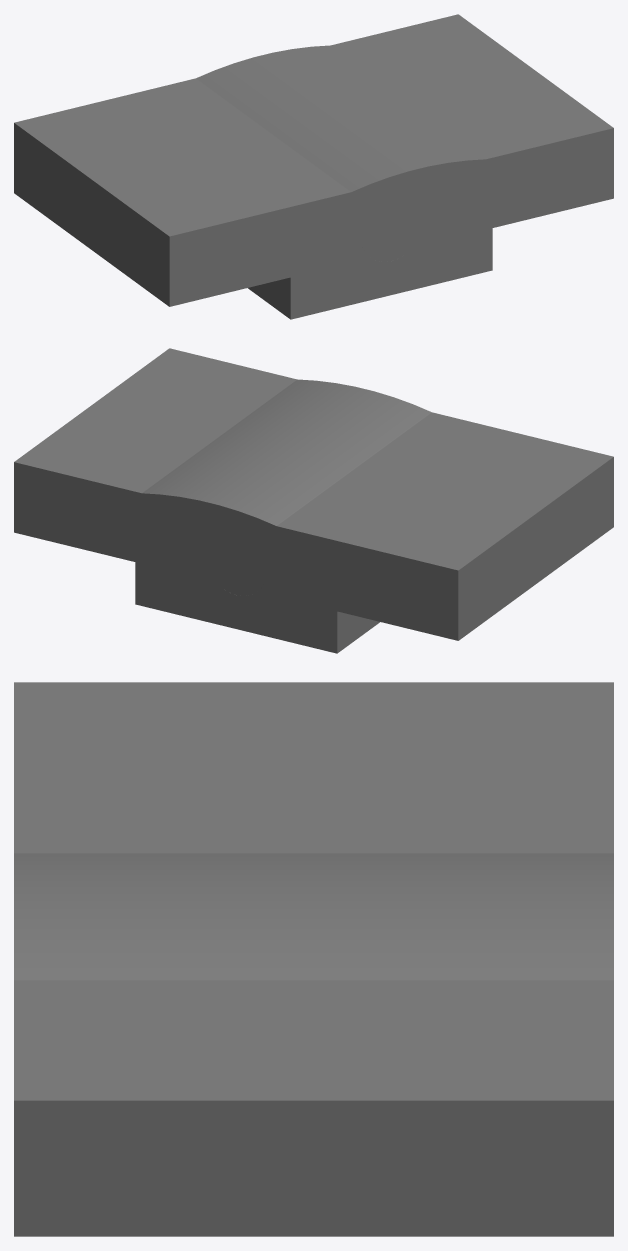
3 renders of one model, top to bottom at view 1: azimuth 30°, elevation 25°; view 2: azimuth 150°, elevation 25°; view 3: azimuth 270°, elevation 25°, orthographic. The views are drawn at different scales.
Visible parts, largest first — view 1: mesh_id4, mesh_id5, mesh_id6; view 2: mesh_id4, mesh_id5, mesh_id6; view 3: mesh_id4, mesh_id5.
Part boxes in pixels (<box>): mesh_id4: <box>14,14,613,306</box>; mesh_id5: <box>196,45,485,261</box>; mesh_id6: <box>248,228,492,319</box>; mesh_id4: <box>14,348,613,640</box>; mesh_id5: <box>142,379,431,595</box>; mesh_id6: <box>135,562,379,653</box>; mesh_id4: <box>14,682,613,1236</box>; mesh_id5: <box>14,853,613,980</box>.
Bounding box in the file's own units: 0.512 × 0.1317 × 0.3103.
Materials: 3 (3 with a texture image).
